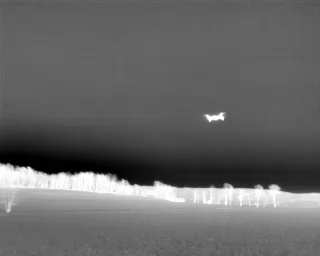DRONE: (200, 107, 231, 128)
